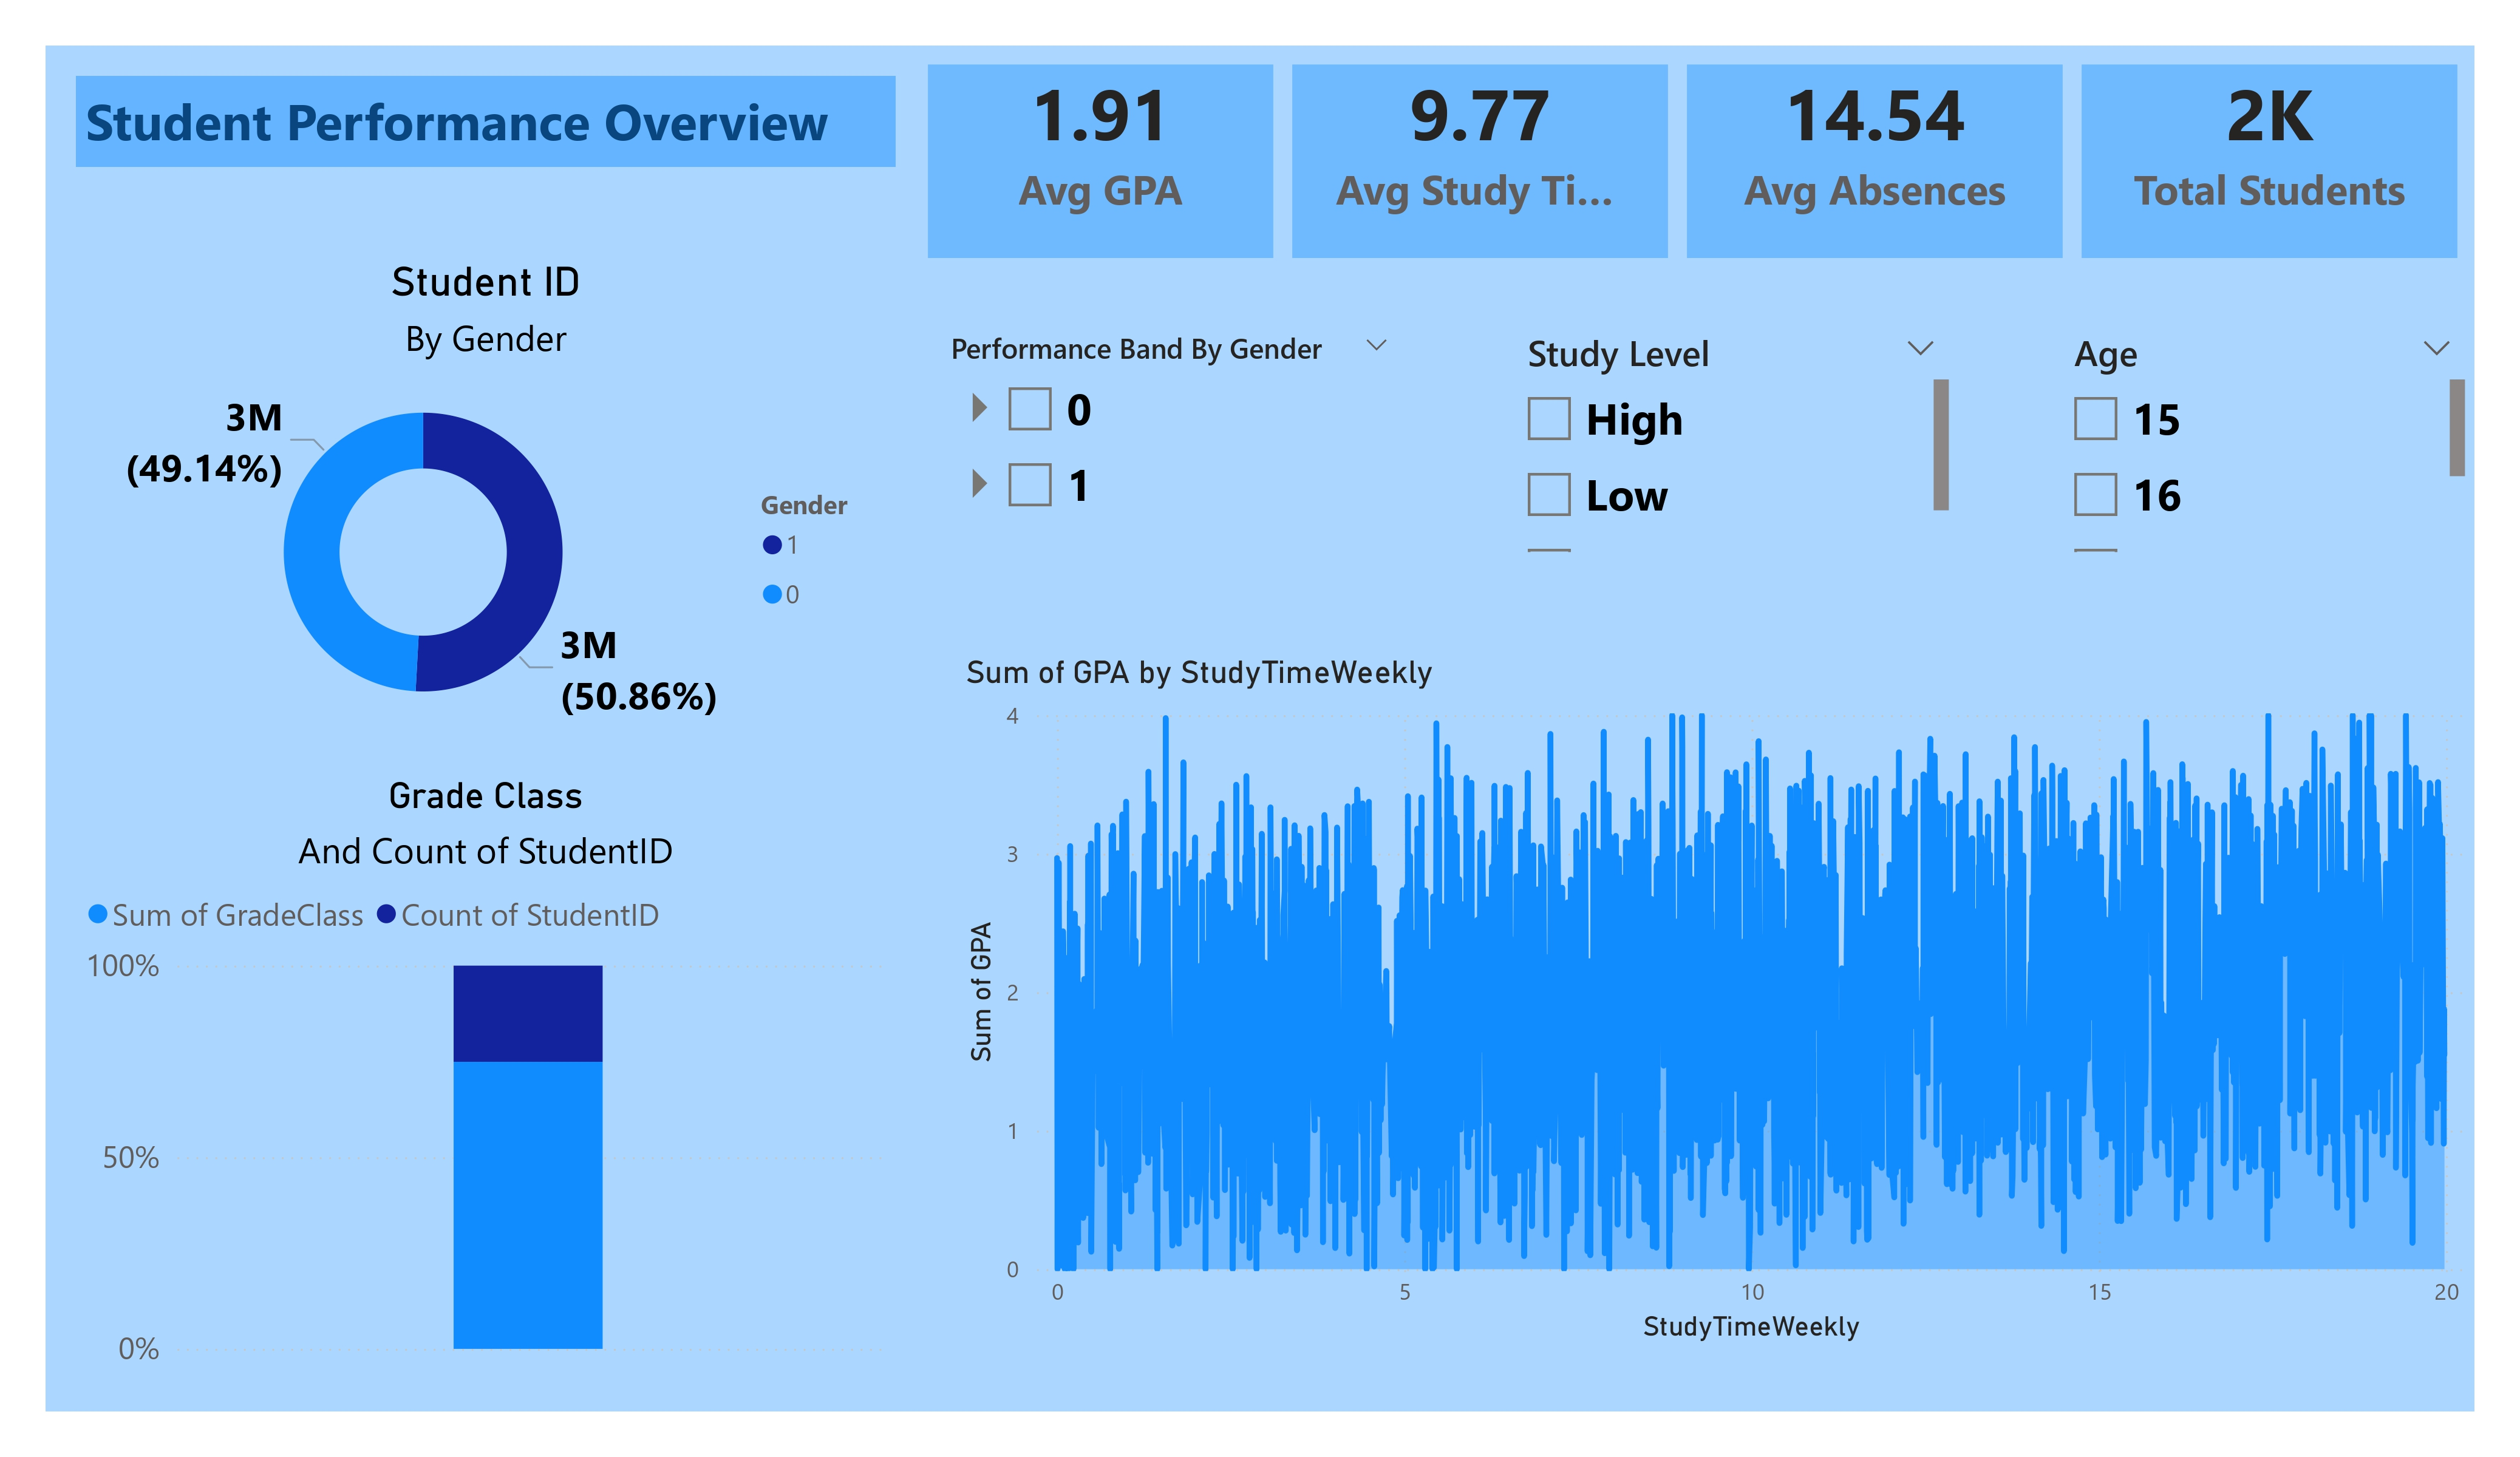

This screenshot's page, from the dashboard's own definition file:
{"tool":"powerbi","page":{"name":"Page 1","canvas":[1280,720],"ordinal":0},"visuals":[{"type":"textbox","box":[16,16,432,48],"z":0},{"type":"cardVisual","fields":{"Data":["_Measures.Avg GPA"]},"box":[459.8,5,192,112],"z":1000},{"type":"cardVisual","fields":{"Data":["_Measures.Avg Study Time"]},"box":[651.8,5,208,112],"z":2000},{"type":"cardVisual","fields":{"Data":["_Measures.Avg Absences"]},"box":[859.8,5,208,112],"z":3000},{"type":"cardVisual","fields":{"Data":["_Measures.Total Students"]},"box":[1067.8,5,208,112],"z":4000},{"type":"donutChart","title":"Student ID ","fields":{"Category":["student_data.Gender"],"Y":["Sum(student_data.StudentID)"]},"box":[16,112,432,256],"z":5000},{"type":"hundredPercentStackedColumnChart","title":"Grade Class","fields":{"Y":["Sum(student_data.GradeClass)","CountNonNull(student_data.StudentID)"]},"box":[16,384,432,320],"z":6000},{"type":"areaChart","fields":{"Y":["Sum(student_data.GPA)"],"Category":["student_data.StudyTimeWeekly"]},"box":[480,320,800,368],"z":7000},{"type":"slicer","fields":{"Values":["student_data.Gender","student_data.PerformanceBand"]},"box":[464,144,256,128],"z":8000},{"type":"slicer","fields":{"Values":["student_data.Age"]},"box":[1056,144,224,128],"z":9000},{"type":"slicer","fields":{"Values":["student_data.StudyLevel"]},"box":[768,144,240,128],"z":10000}]}

Visuals, with their boxes on the page's 1280x720 design canvas (x1, y1, x2, y2). These are canvas units, not pixel positions in the 2520x1457 screenshot, which may show the page scaled, cropped or inside an application window:
textbox: x1=16, y1=16, x2=448, y2=64
cardVisual - _Measures.Avg GPA: x1=460, y1=5, x2=652, y2=117
cardVisual - _Measures.Avg Study Time: x1=652, y1=5, x2=860, y2=117
cardVisual - _Measures.Avg Absences: x1=860, y1=5, x2=1068, y2=117
cardVisual - _Measures.Total Students: x1=1068, y1=5, x2=1276, y2=117
"Student ID " donutChart: x1=16, y1=112, x2=448, y2=368
"Grade Class" hundredPercentStackedColumnChart: x1=16, y1=384, x2=448, y2=704
areaChart - Sum(student_data.GPA) x student_data.StudyTimeWeekly: x1=480, y1=320, x2=1280, y2=688
slicer - student_data.Gender x student_data.PerformanceBand: x1=464, y1=144, x2=720, y2=272
slicer - student_data.Age: x1=1056, y1=144, x2=1280, y2=272
slicer - student_data.StudyLevel: x1=768, y1=144, x2=1008, y2=272
